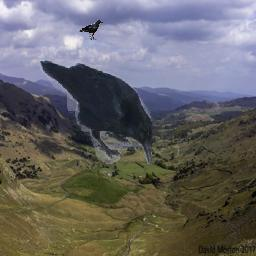Crow: (38, 60, 152, 165), (79, 20, 103, 41)
